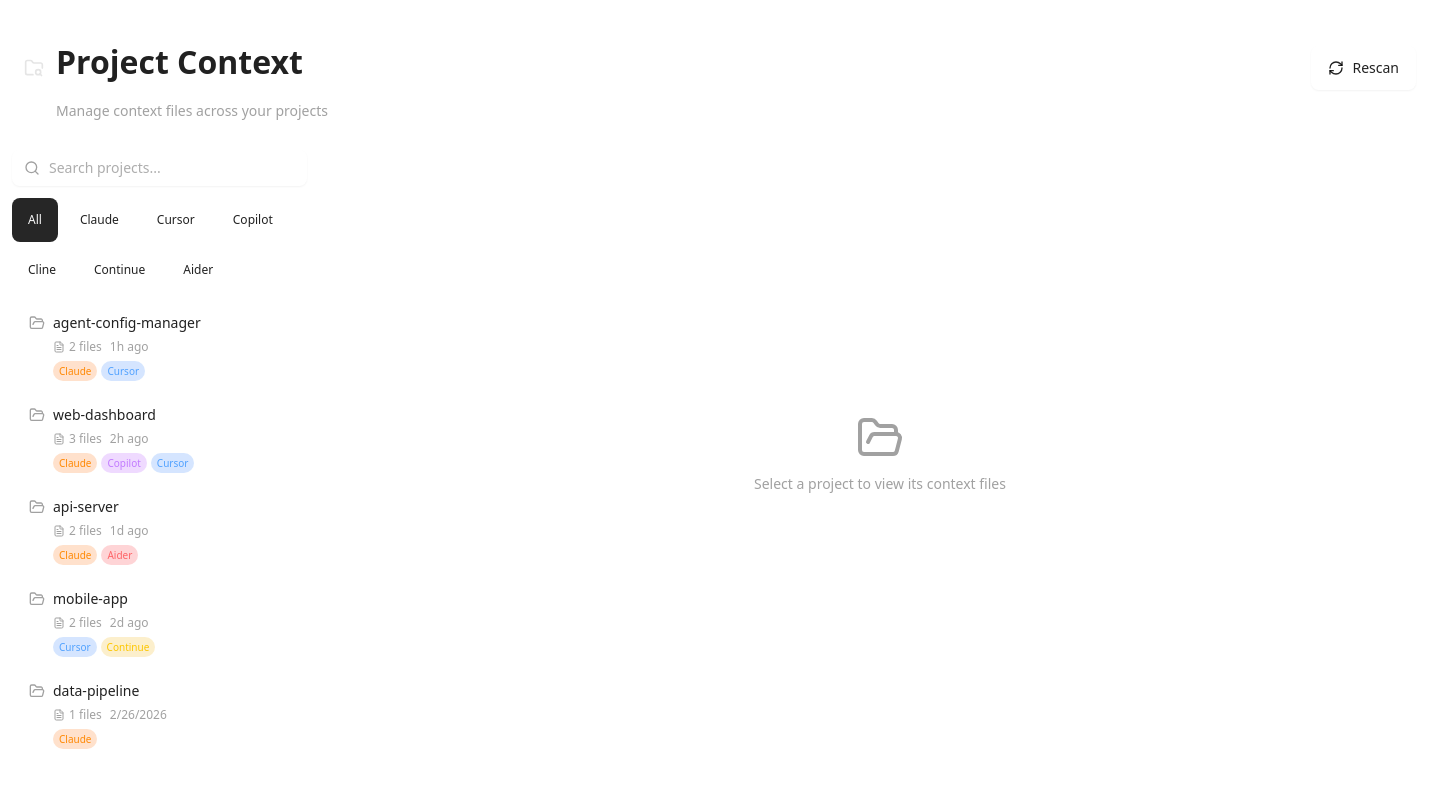
Scenario: ProjectContextPage › should show New Context File button when project is selected
# Select a project
Click the text "agent-config-manager": x=127, y=323 [53, 313, 201, 333]
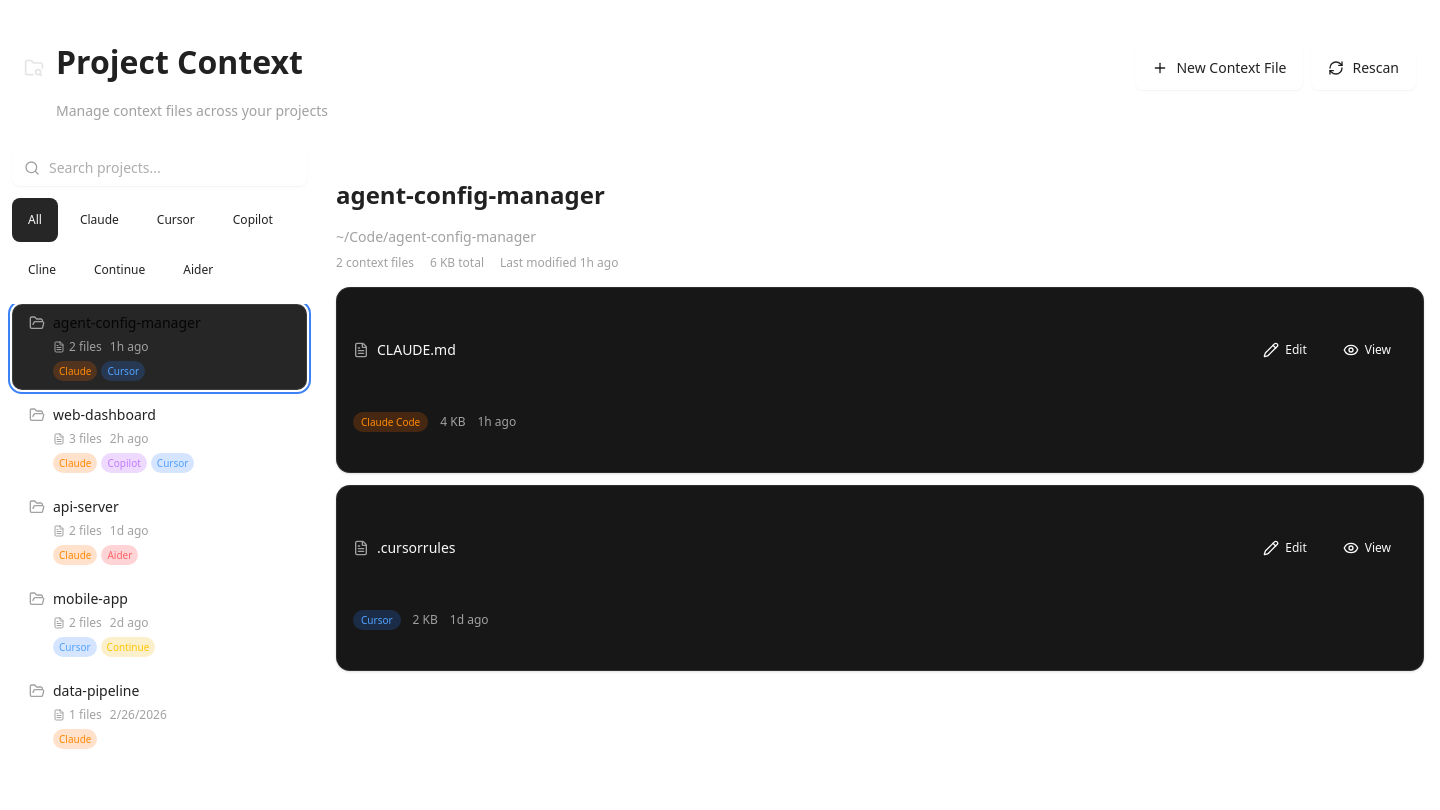
Expected: the button "New Context File" is shown, [1135, 46, 1303, 90]
